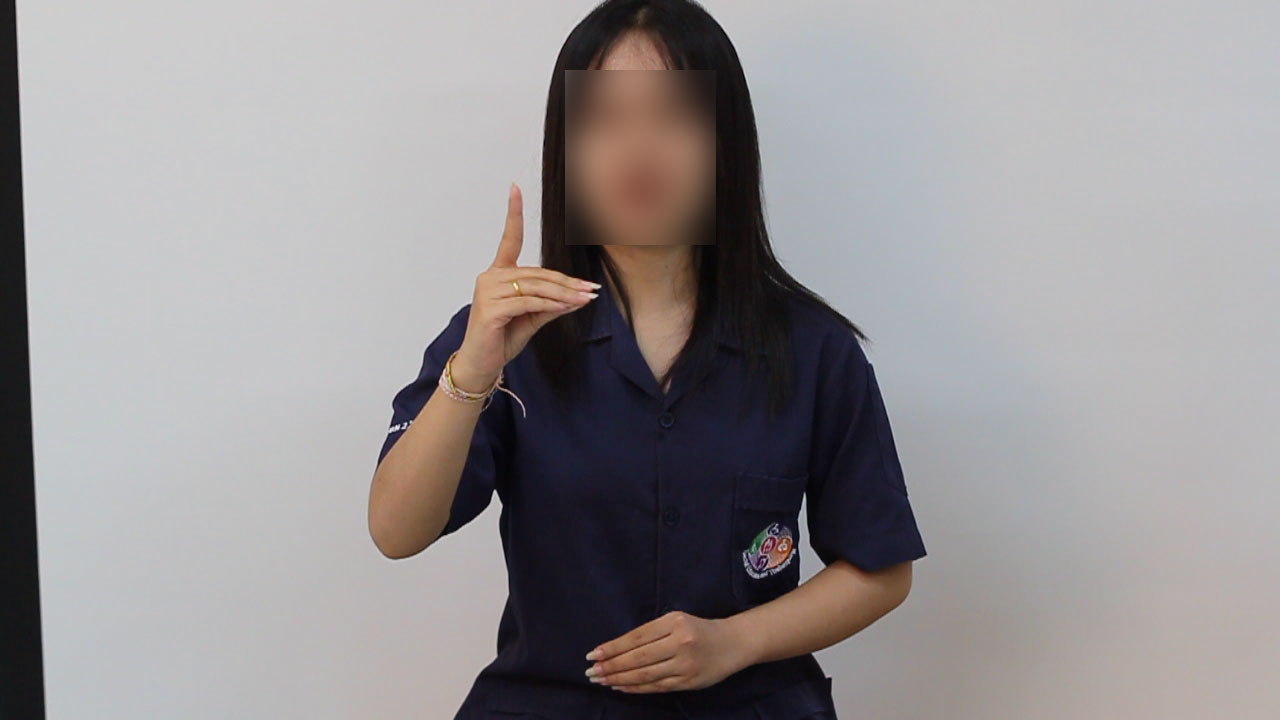dor: (440, 176, 607, 376)
